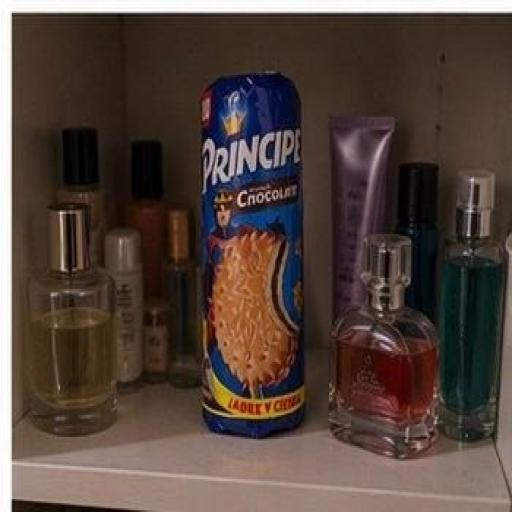prince: (157, 51, 441, 489)
